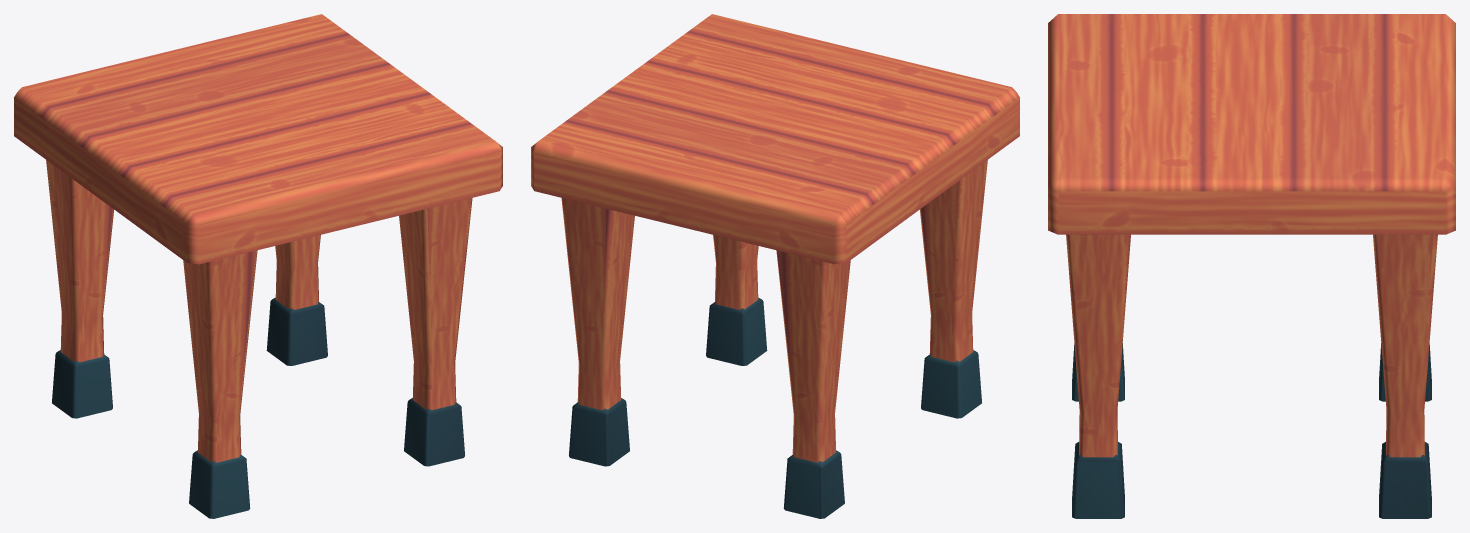
The model's file is Chair.fbx.
3 views of the same model, side by side, from view 1: azimuth 30°, elevation 25°; view 2: azimuth 150°, elevation 25°; view 3: azimuth 270°, elevation 25° (orthographic). The views are drawn at different scales.
Parts seen in each view (by area): view 1: Chair; view 2: Chair; view 3: Chair.
Boxes of the visible parts, left/top/right/bottom form: Chair: left=14, top=14, right=502, bottom=518; Chair: left=531, top=14, right=1019, bottom=518; Chair: left=1048, top=14, right=1455, bottom=518.
Size of the model in its own units: 0.5843 by 0.5581 by 0.5843.
